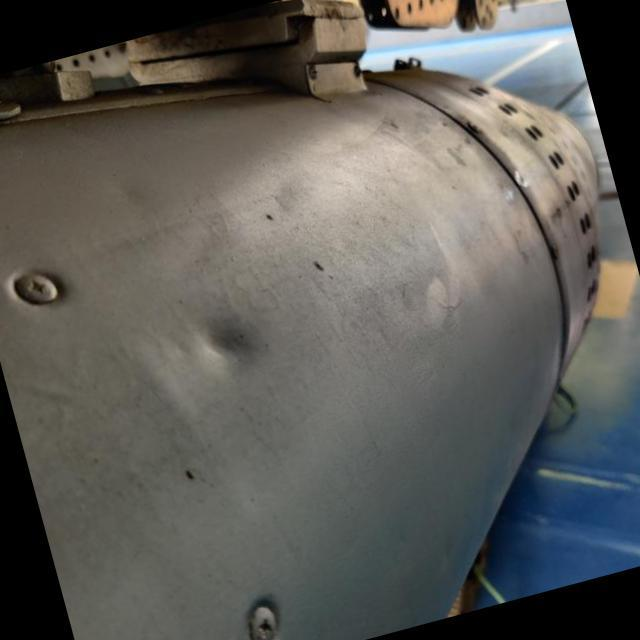Dent: (159, 272, 304, 412)
